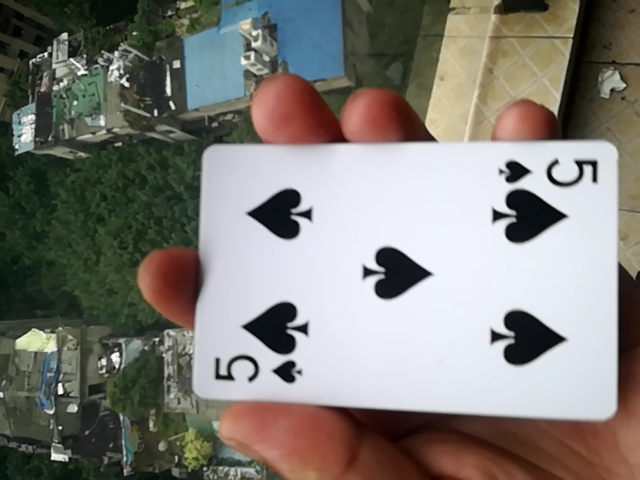ht 5: (162, 138, 615, 423)
